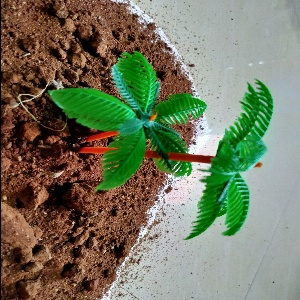plant: (48, 51, 275, 240)
